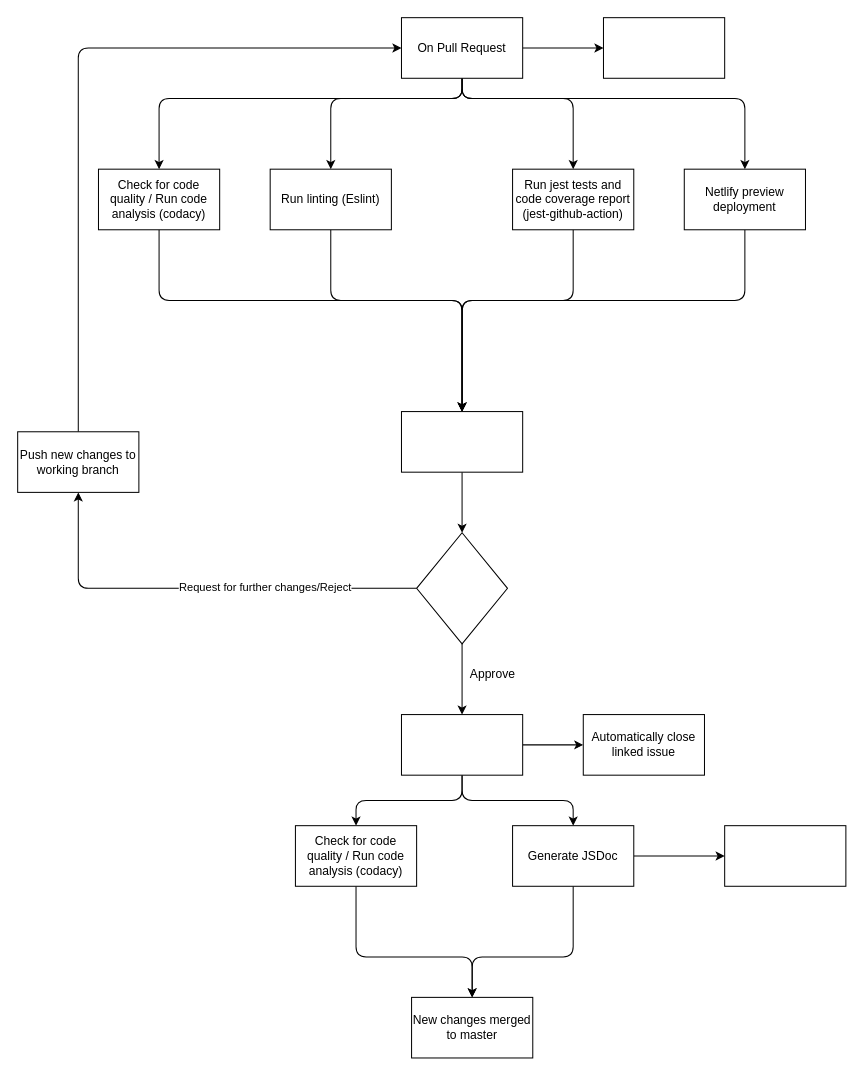
Some shapes in this 864 by 1076 pixel diagram are drawn without their labels. The box of each missing label's shape, as (x1, y1, x2, y2) in pixels:
Deploy to github pages through a separate repo (github-action): (724, 825, 846, 886)
Manually link an open issue: (602, 17, 725, 78)
Merge (On Push to master): (400, 714, 523, 775)
Request for review: (400, 411, 523, 472)
Reviewers' action: (416, 532, 508, 644)
